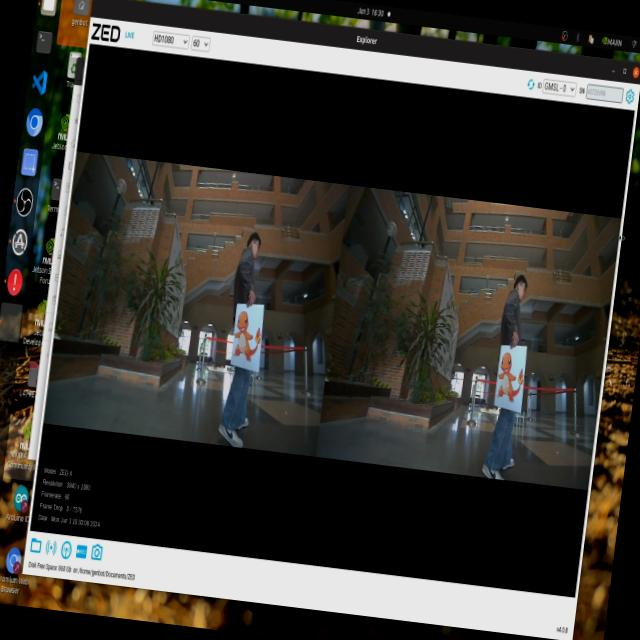red: (226, 304, 268, 368), (492, 351, 526, 408)
